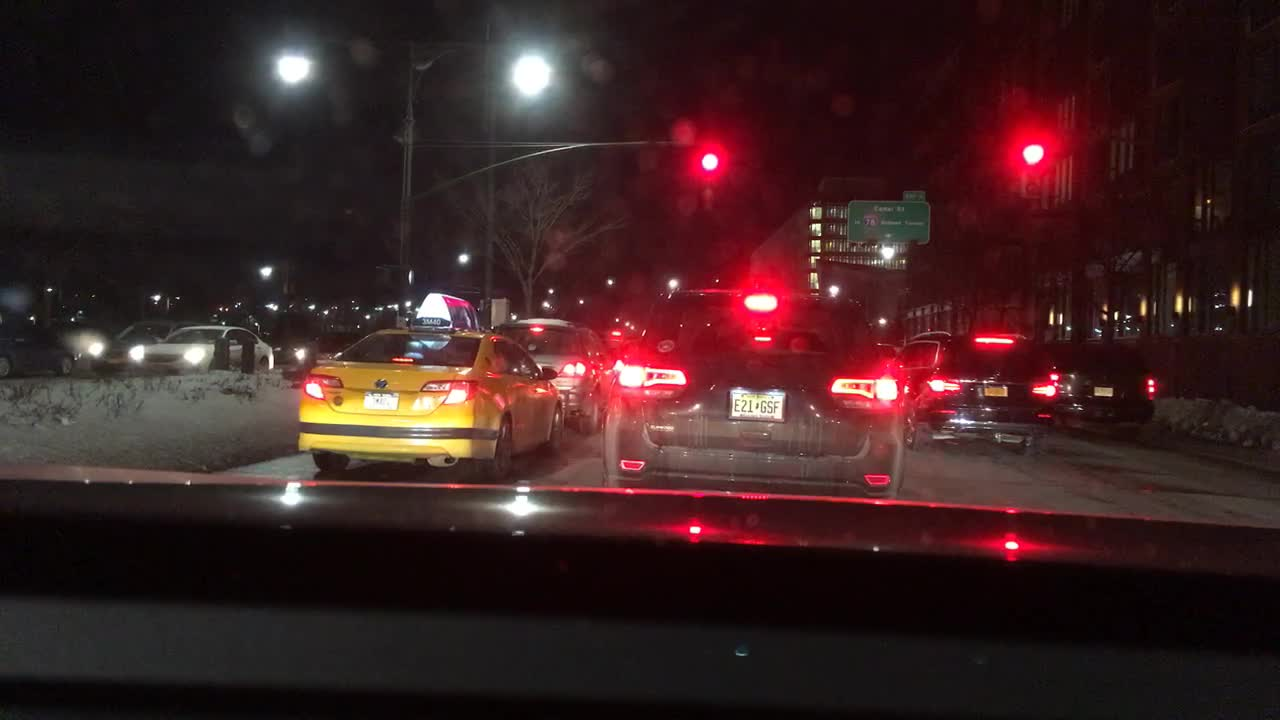car: (609, 281, 903, 502), (290, 291, 564, 475), (899, 328, 1062, 452), (490, 317, 616, 428), (1040, 333, 1157, 442), (123, 327, 275, 373), (0, 310, 70, 376), (54, 316, 110, 370), (110, 317, 185, 348), (309, 330, 361, 363), (268, 331, 309, 365), (607, 322, 642, 353), (874, 334, 902, 368)
traffic light: (699, 139, 718, 181), (1022, 128, 1040, 171)
traffic sign: (845, 201, 930, 244), (899, 187, 926, 199)
